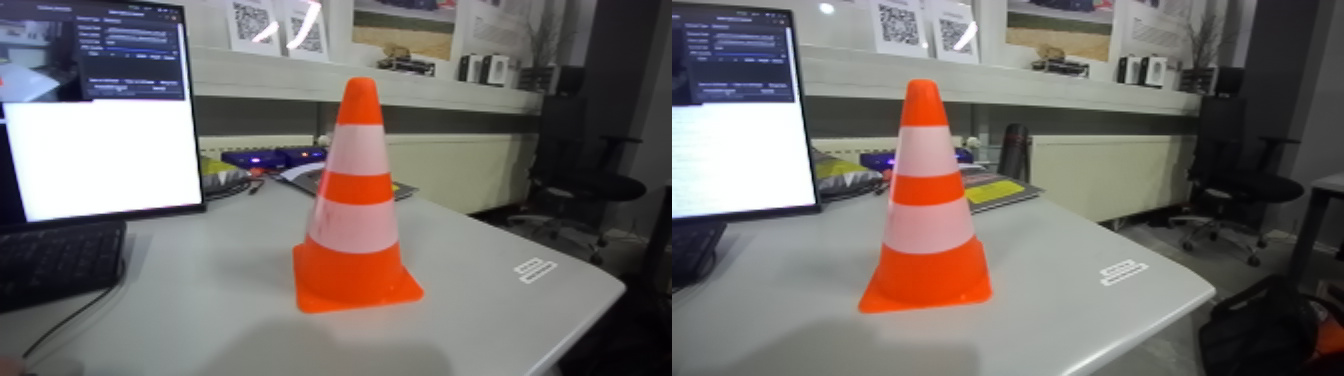cone: (851, 85, 1000, 321), (293, 77, 432, 321)
